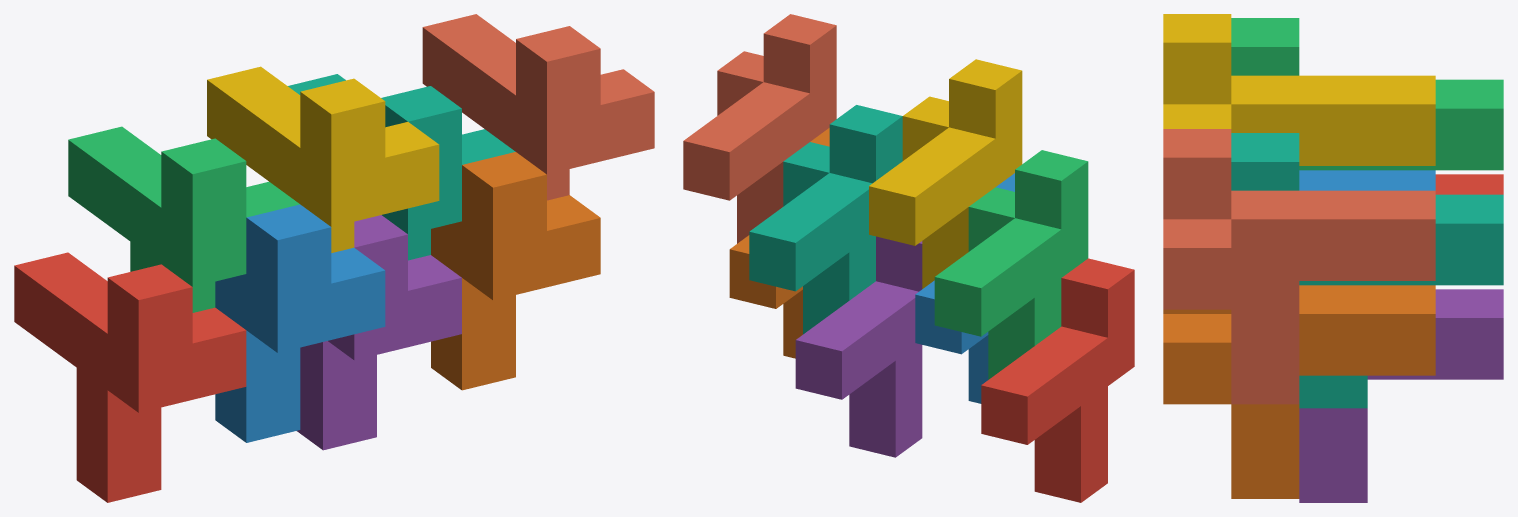
The model's file is tiling.obj.
The picture shows the model from 3 angles, left to right: view 1: azimuth 30°, elevation 25°; view 2: azimuth 150°, elevation 25°; view 3: azimuth 270°, elevation 25°; orthographic projection. The views are drawn at different scales.
Parts seen in each view (by area): view 1: copy_1_domain_1, copy_1_domain_4, copy_1_domain_8, copy_1_domain_2, copy_1_domain_6, copy_1_domain_3, copy_1_domain_5, copy_1_domain_7; view 2: copy_1_domain_1, copy_1_domain_3, copy_1_domain_4, copy_1_domain_8, copy_1_domain_7, copy_1_domain_5, copy_1_domain_2, copy_1_domain_6; view 3: copy_1_domain_8, copy_1_domain_6, copy_1_domain_4, copy_1_domain_7, copy_1_domain_5, copy_1_domain_3, copy_1_domain_2, copy_1_domain_1.
Boxes of the visible parts, x1=… form: copy_1_domain_1: x1=14, y1=252, x2=246, y2=502; copy_1_domain_4: x1=207, y1=66, x2=439, y2=252; copy_1_domain_8: x1=422, y1=14, x2=654, y2=200; copy_1_domain_2: x1=215, y1=204, x2=385, y2=442; copy_1_domain_6: x1=431, y1=152, x2=600, y2=390; copy_1_domain_3: x1=68, y1=126, x2=299, y2=312; copy_1_domain_5: x1=297, y1=215, x2=461, y2=450; copy_1_domain_7: x1=288, y1=74, x2=515, y2=260; copy_1_domain_1: x1=981, y1=258, x2=1134, y2=502; copy_1_domain_3: x1=934, y1=150, x2=1088, y2=379; copy_1_domain_4: x1=869, y1=59, x2=1022, y2=288; copy_1_domain_8: x1=683, y1=14, x2=836, y2=243; copy_1_domain_7: x1=749, y1=105, x2=902, y2=334; copy_1_domain_5: x1=795, y1=236, x2=922, y2=457; copy_1_domain_2: x1=915, y1=173, x2=1014, y2=403; copy_1_domain_6: x1=729, y1=128, x2=829, y2=358; copy_1_domain_8: x1=1163, y1=129, x2=1435, y2=404; copy_1_domain_6: x1=1163, y1=285, x2=1435, y2=498; copy_1_domain_4: x1=1163, y1=14, x2=1435, y2=165; copy_1_domain_7: x1=1231, y1=133, x2=1503, y2=408; copy_1_domain_5: x1=1299, y1=289, x2=1503, y2=502; copy_1_domain_3: x1=1231, y1=18, x2=1503, y2=170; copy_1_domain_2: x1=1299, y1=170, x2=1435, y2=190; copy_1_domain_1: x1=1435, y1=174, x2=1503, y2=194.
Size of the model in its own units: 9 by 7 by 5.
